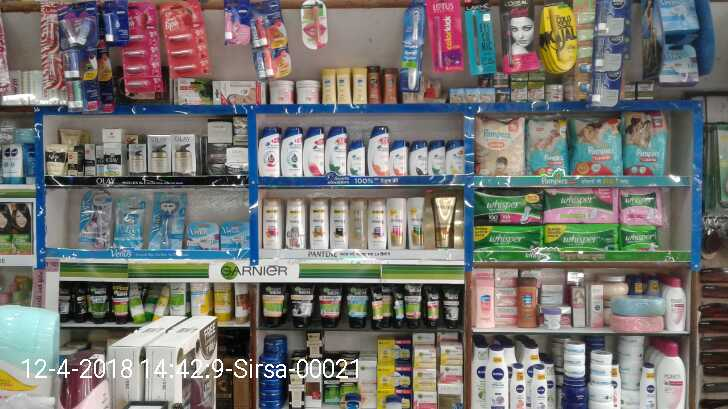venus: (149, 189, 184, 250), (79, 189, 113, 249), (114, 194, 146, 251), (659, 43, 699, 85), (656, 1, 700, 29), (185, 221, 220, 251), (221, 222, 251, 253)
